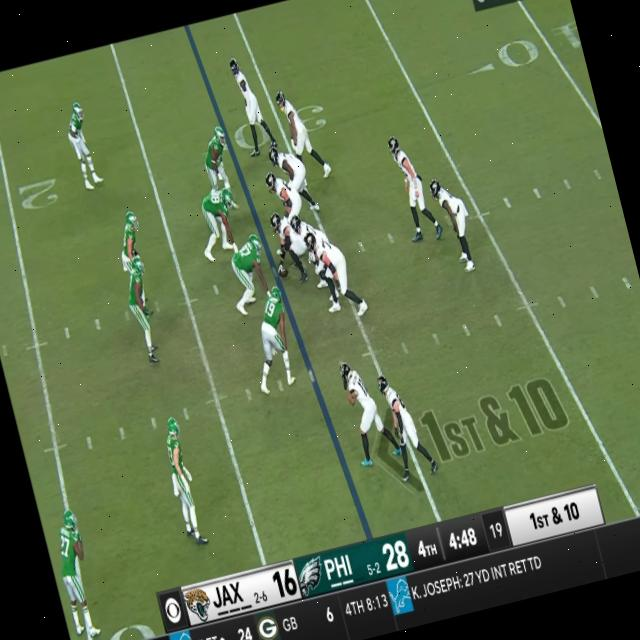Player: (45, 508, 103, 638), (156, 415, 207, 541), (248, 282, 302, 385), (338, 359, 388, 464), (120, 254, 167, 362), (61, 96, 101, 193), (111, 208, 147, 266)
